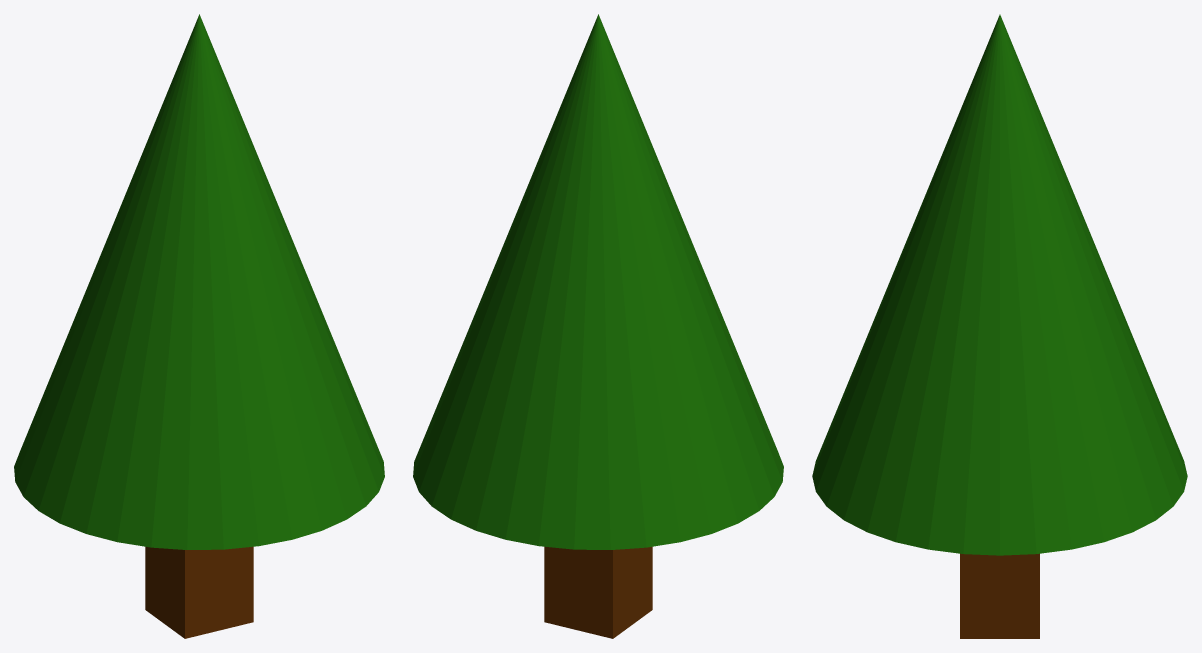
File: arbre-map1.fbx
The picture shows the model from 3 angles, left to right: view 1: azimuth 30°, elevation 25°; view 2: azimuth 150°, elevation 25°; view 3: azimuth 270°, elevation 25°; orthographic projection.
Visible parts, largest first — view 1: Branche sapin, pied; view 2: Branche sapin, pied; view 3: Branche sapin, pied.
Boxes of the visible parts, x1,y1,x2,y2 form: Branche sapin: (14,14,384,549); pied: (145,546,253,638); Branche sapin: (413,14,783,549); pied: (544,546,652,638); Branche sapin: (812,14,1187,555); pied: (960,553,1039,638).
Size of the model in its own units: 377 by 674 by 377.
